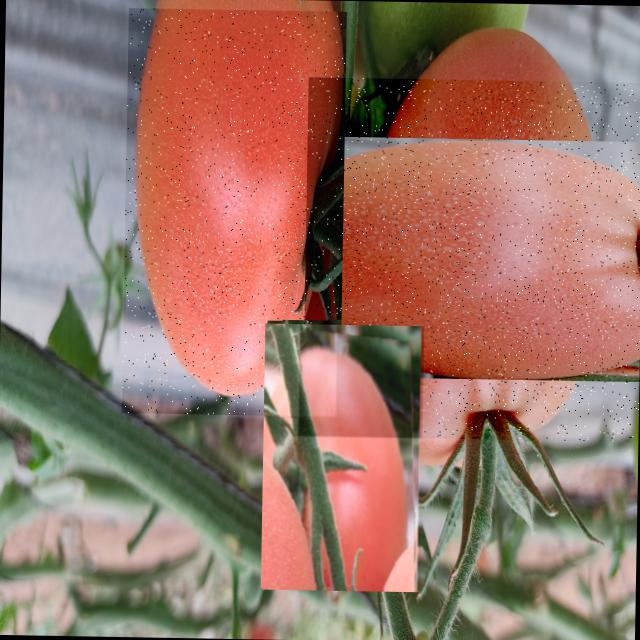Ripe Tomato: (302, 76, 640, 441), (121, 8, 346, 416), (260, 323, 426, 592)
